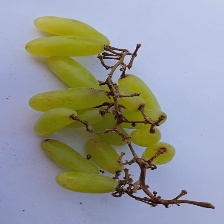grapes: (33, 40, 190, 209)
